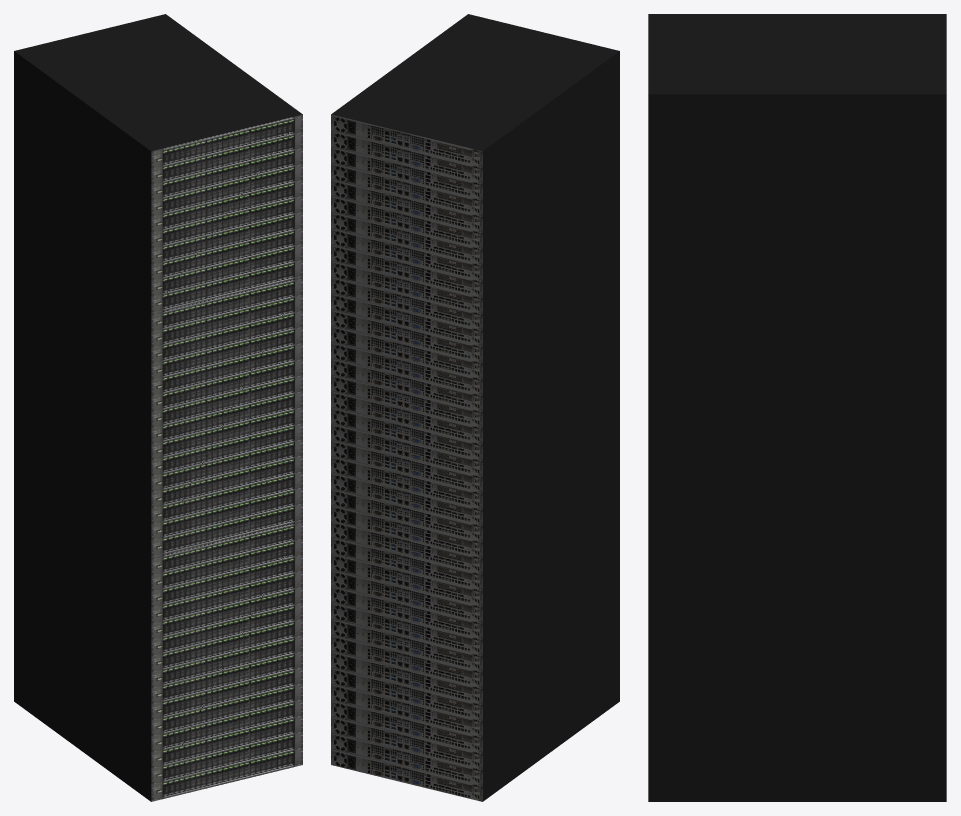
File: ADR40.fbx
3 renders of one model, left to right at view 1: azimuth 30°, elevation 25°; view 2: azimuth 150°, elevation 25°; view 3: azimuth 270°, elevation 25°, orthographic. The views are drawn at different scales.
Parts seen in each view (by area): view 1: ADR40; view 2: ADR40; view 3: ADR40.
Boxes of the visible parts, box(x1,y1,x2,y2) form: ADR40: box(14, 14, 302, 801); ADR40: box(331, 14, 619, 801); ADR40: box(648, 14, 946, 801).
Size of the model in its own units: 434 by 1780 by 680.
Materials: 3 (2 with a texture image).
